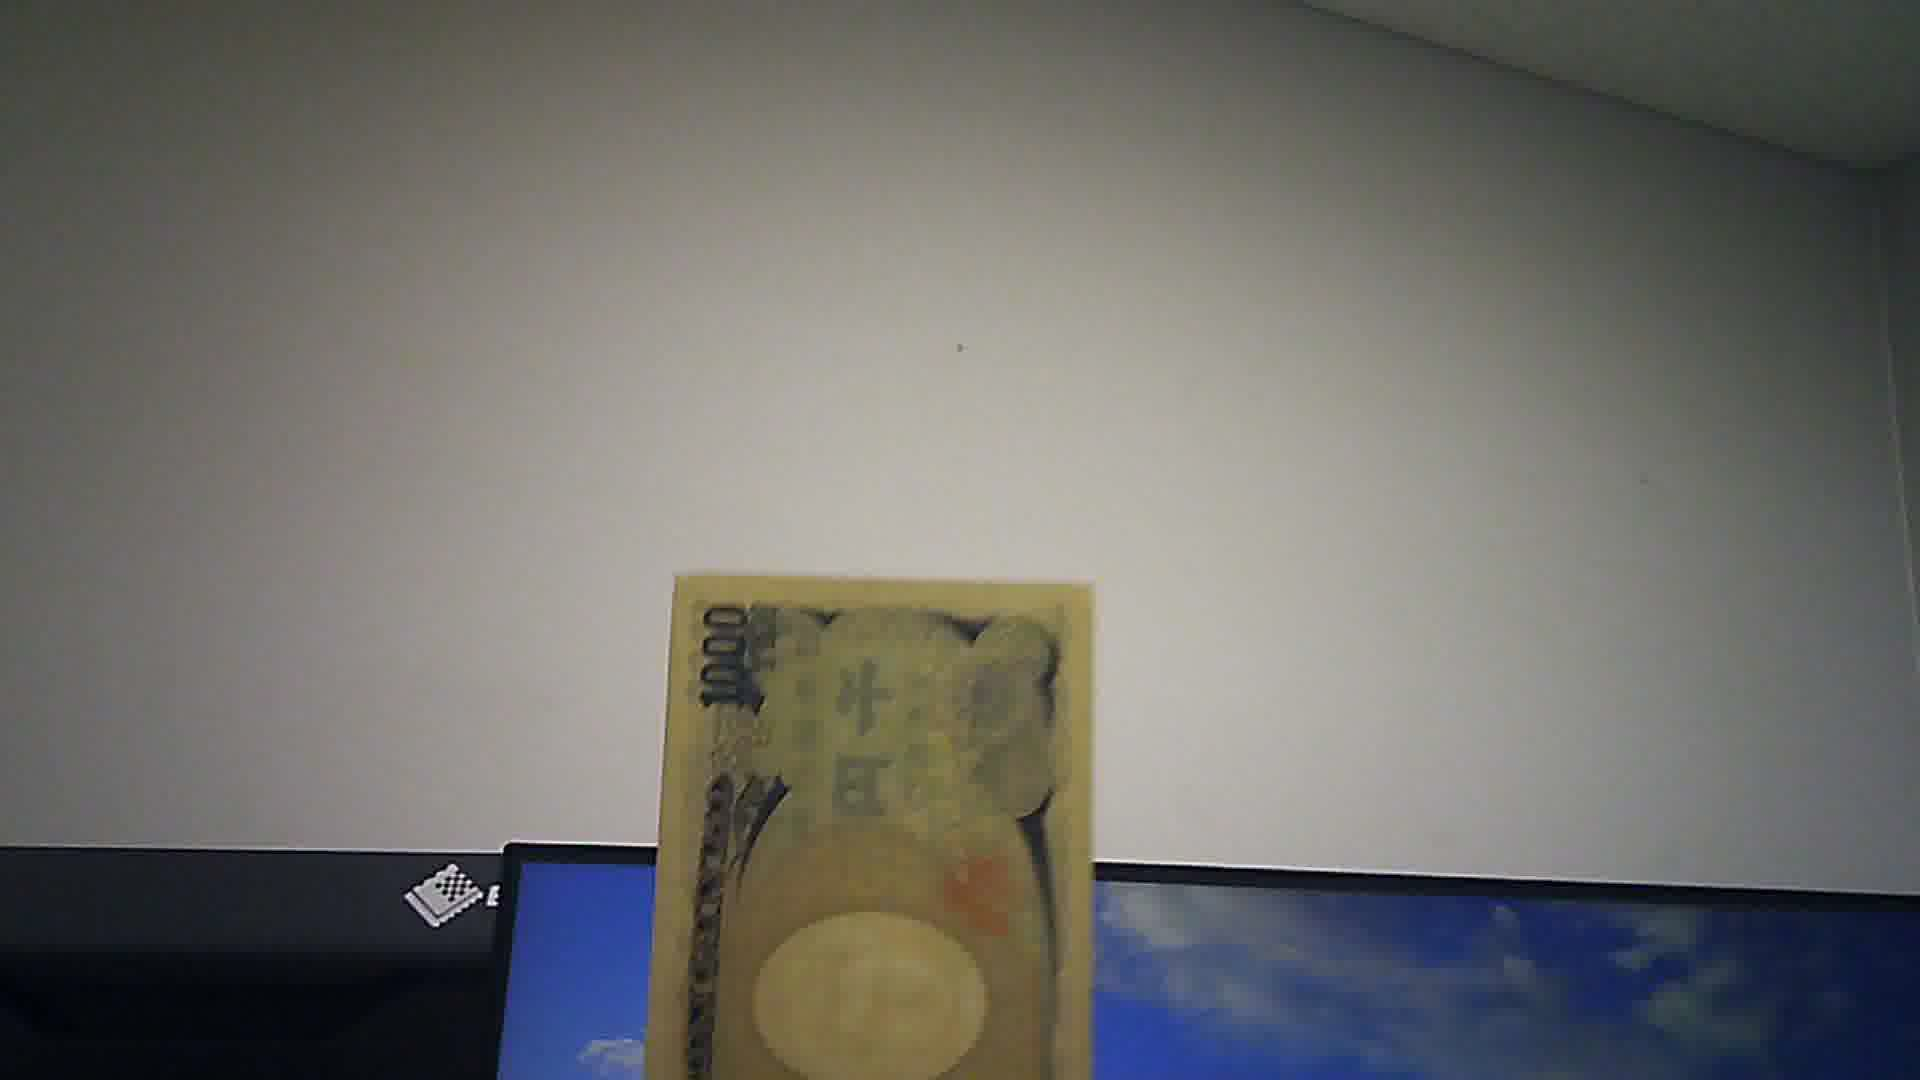1,000 Yen: (644, 563, 1106, 1079)
